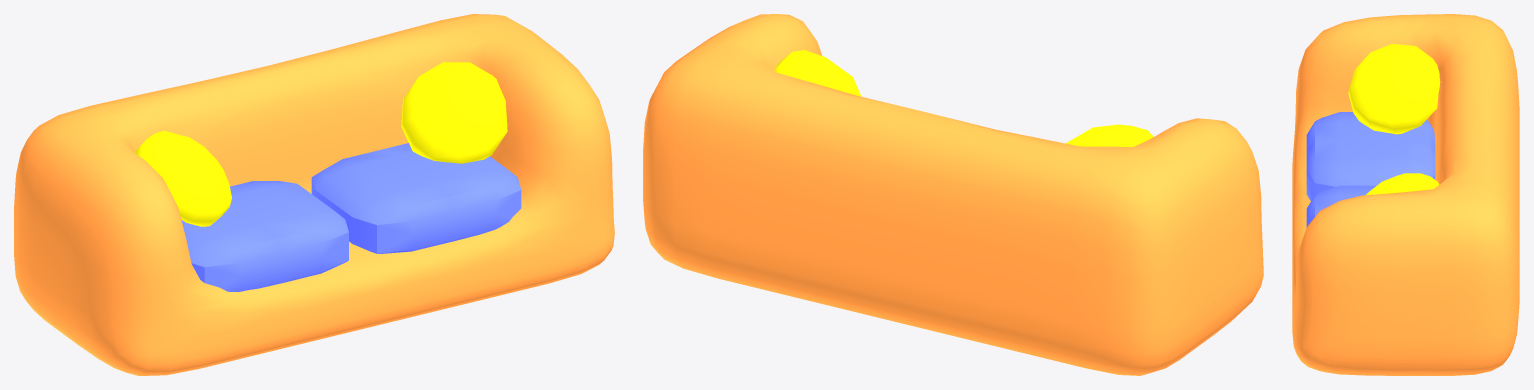
Rendered from Sofa2.fbx.
3 views of the same model, side by side, from view 1: azimuth 30°, elevation 25°; view 2: azimuth 150°, elevation 25°; view 3: azimuth 270°, elevation 25° (orthographic). The views are drawn at different scales.
Parts seen in each view (by area): view 1: Sofa2; view 2: Sofa2; view 3: Sofa2.
Boxes of the visible parts, <box> form: Sofa2: <box>14,14,614,375</box>; Sofa2: <box>643,14,1263,375</box>; Sofa2: <box>1292,14,1519,375</box>.
Bounding box in the file's own units: 426 × 158 × 186.
